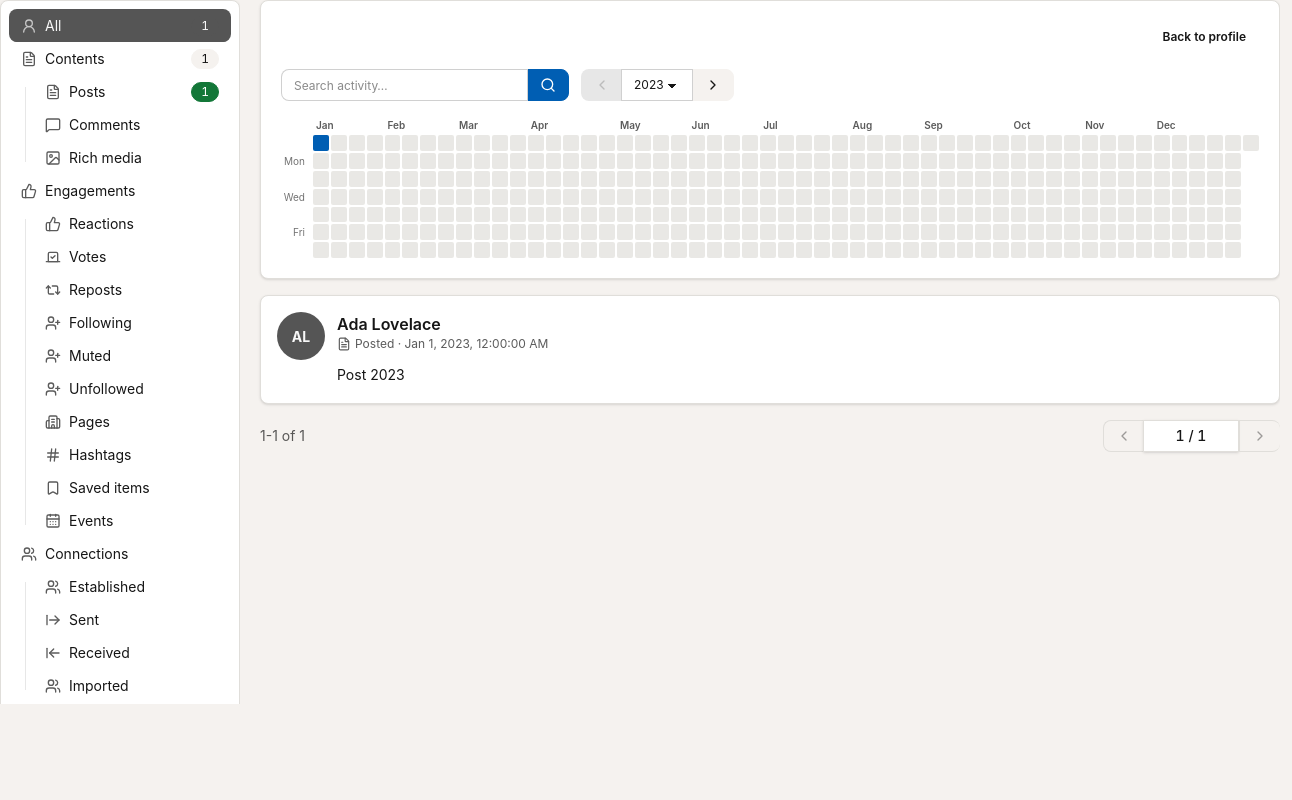
it: ActivityPage › selecting 'All' shows all activities and hides the calendar
Expected: the element named "activity calendar" is shown, [281,117,1259,258]
select the All option
Step 1. Select "All" in the dropdown named "Activity year" → point(657, 85), box [621,69,693,101]
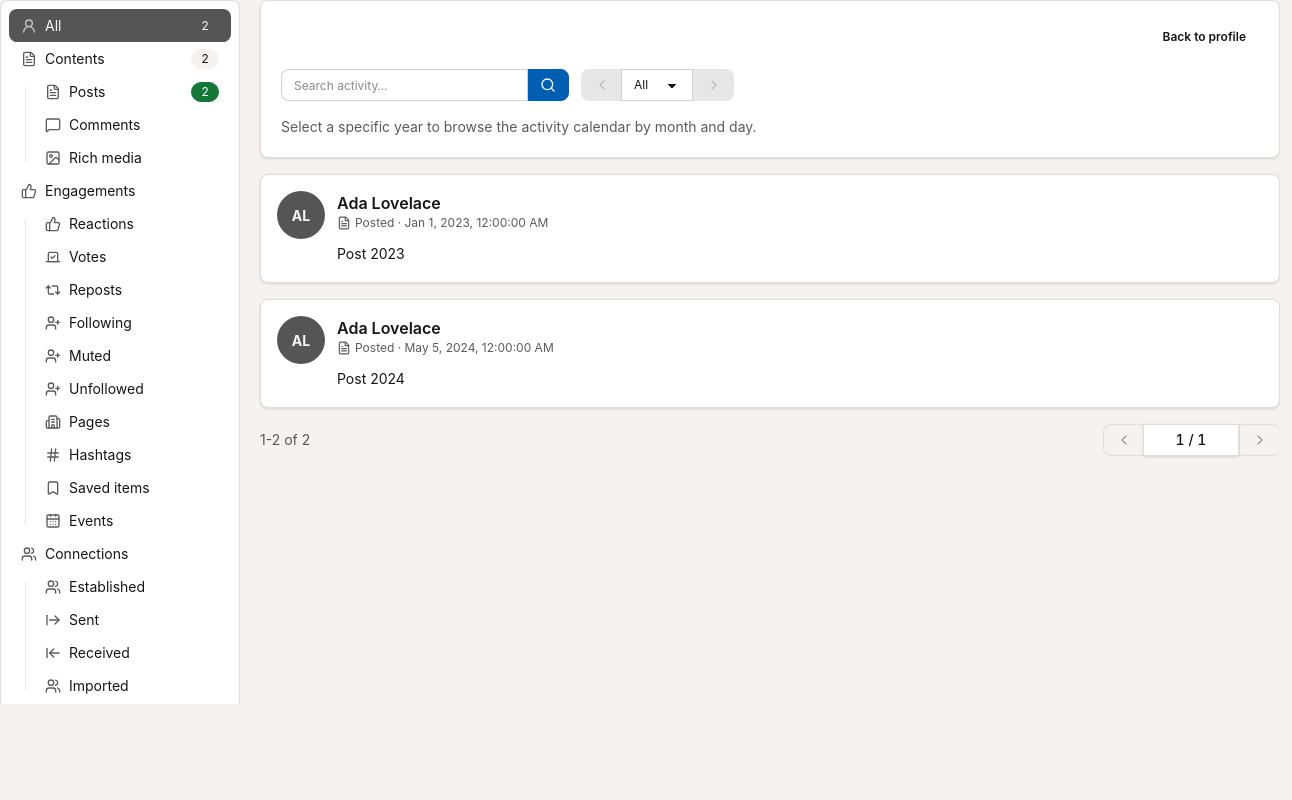
Expected: the text "Post 2023" is shown, [337,245,405,262]
Expected: the text "Post 2024" is shown, [337,370,405,387]
